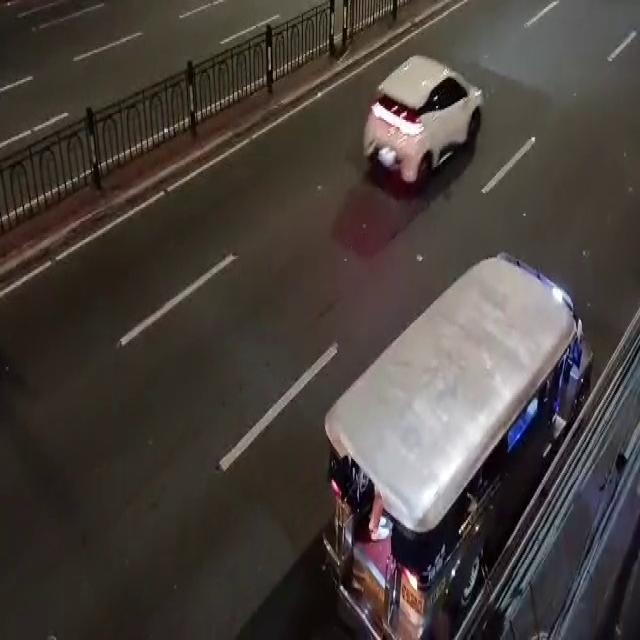car: (358, 54, 481, 193)
jeepney: (336, 250, 584, 630)
